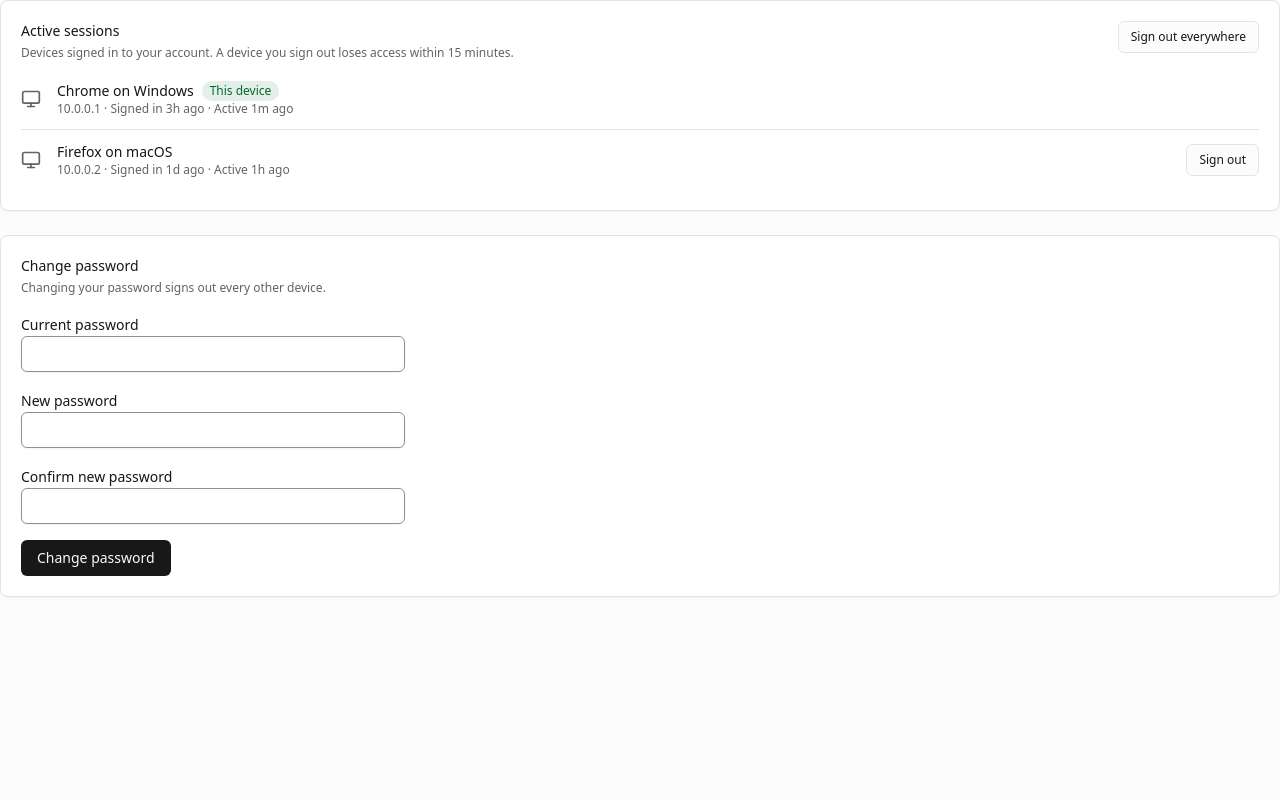
Test case: changing the password › sends only the two passwords, tells you how many devices were signed out, and clears the form
Type "correct-horse-battery" into the password field labelled "Current password" at [213, 354], box [21,336,405,372]
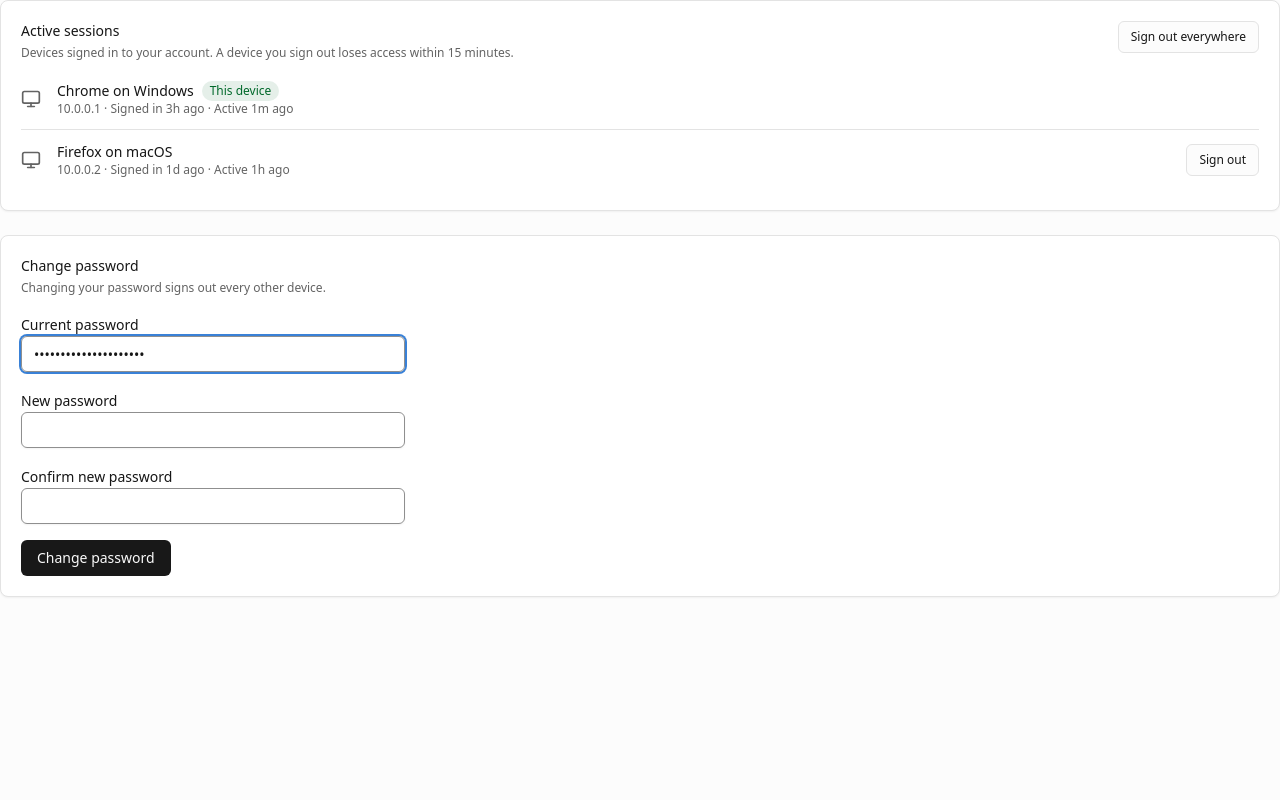
Type "a-brand-new-password" into the password field labelled "New password" at [213, 430], box [21,412,405,448]
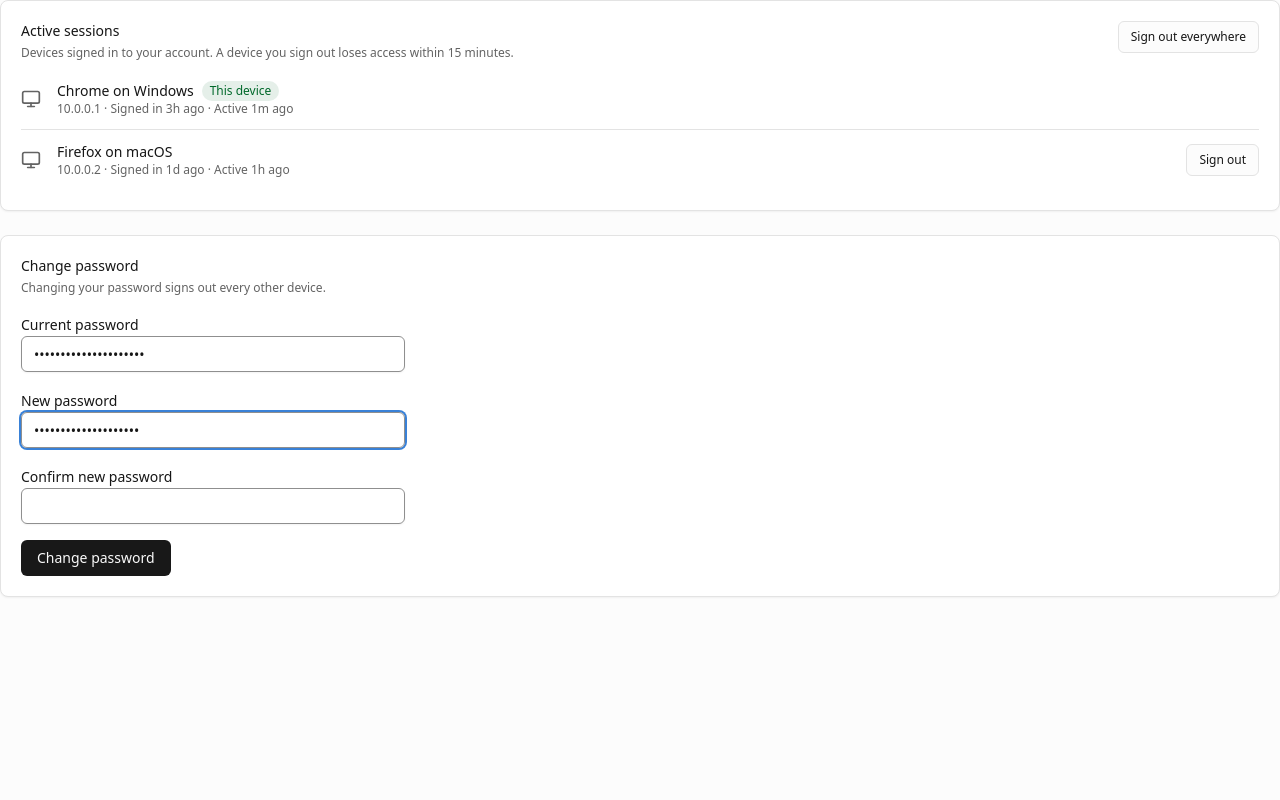
Type "a-brand-new-password" into the password field labelled "Confirm new password" at [213, 506], box [21,488,405,524]
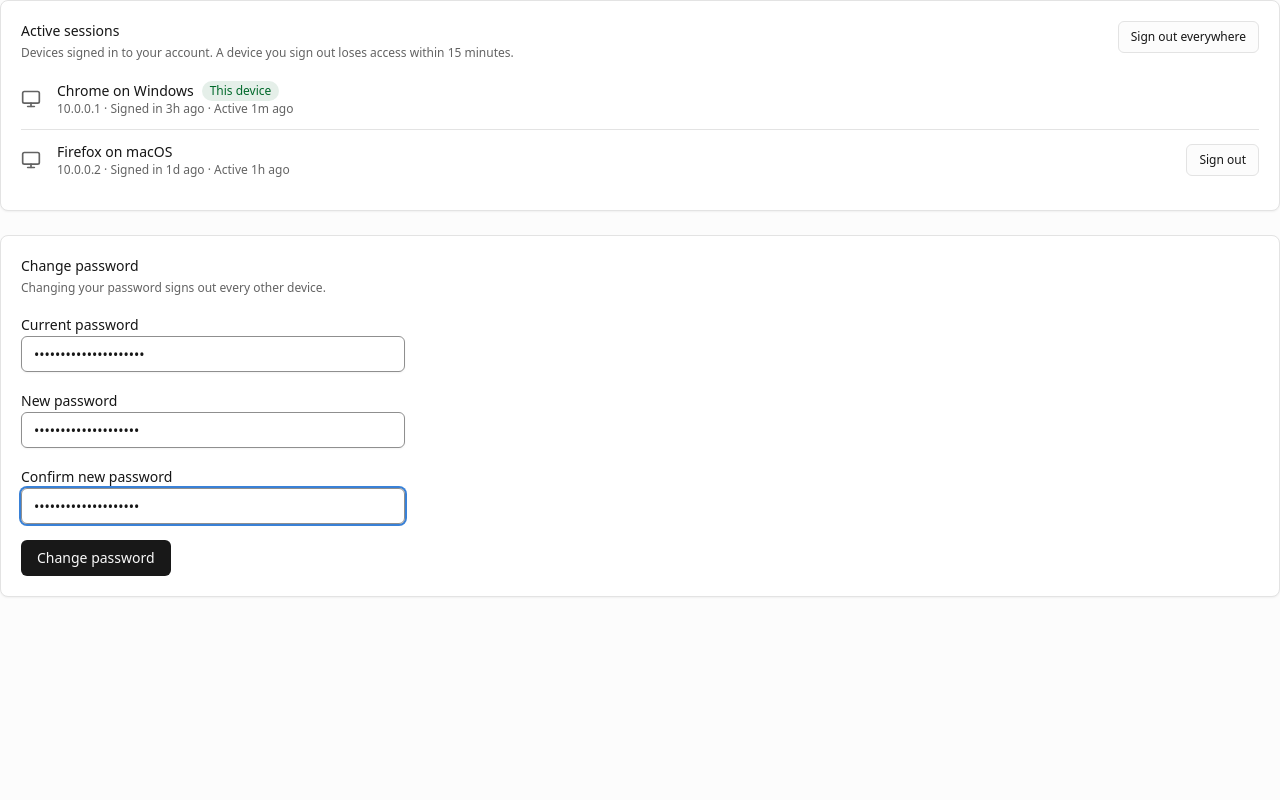
Click the button "Change password" at [96, 558], box [21,540,171,576]
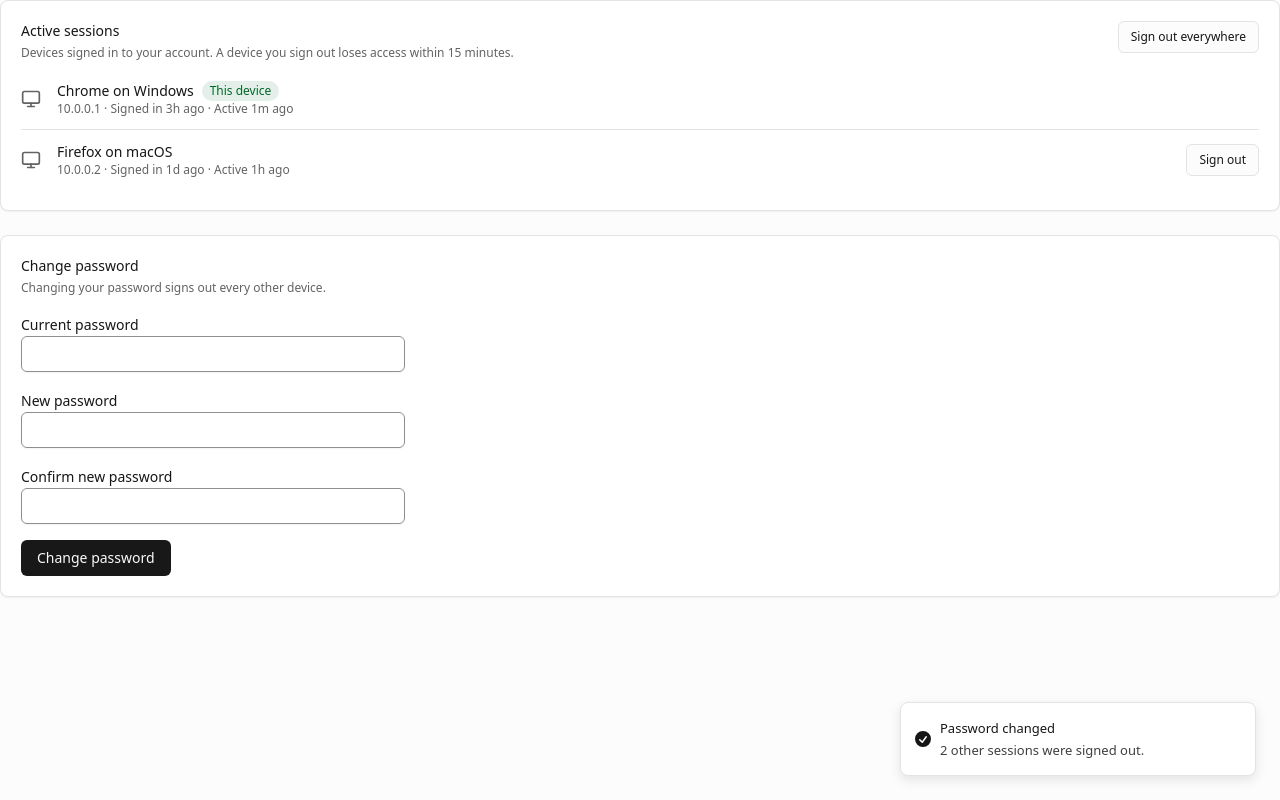
Expected: the text "Password changed" is shown, [940,719,1055,737]
Expected: the text "2 other sessions were signed out." is shown, [940,741,1144,759]
Expected: the password field labelled "Current password" is empty, [21,336,405,372]
